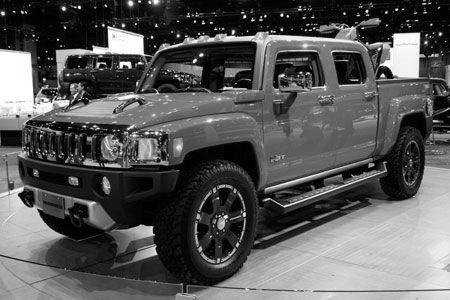car: (18, 33, 437, 287)
